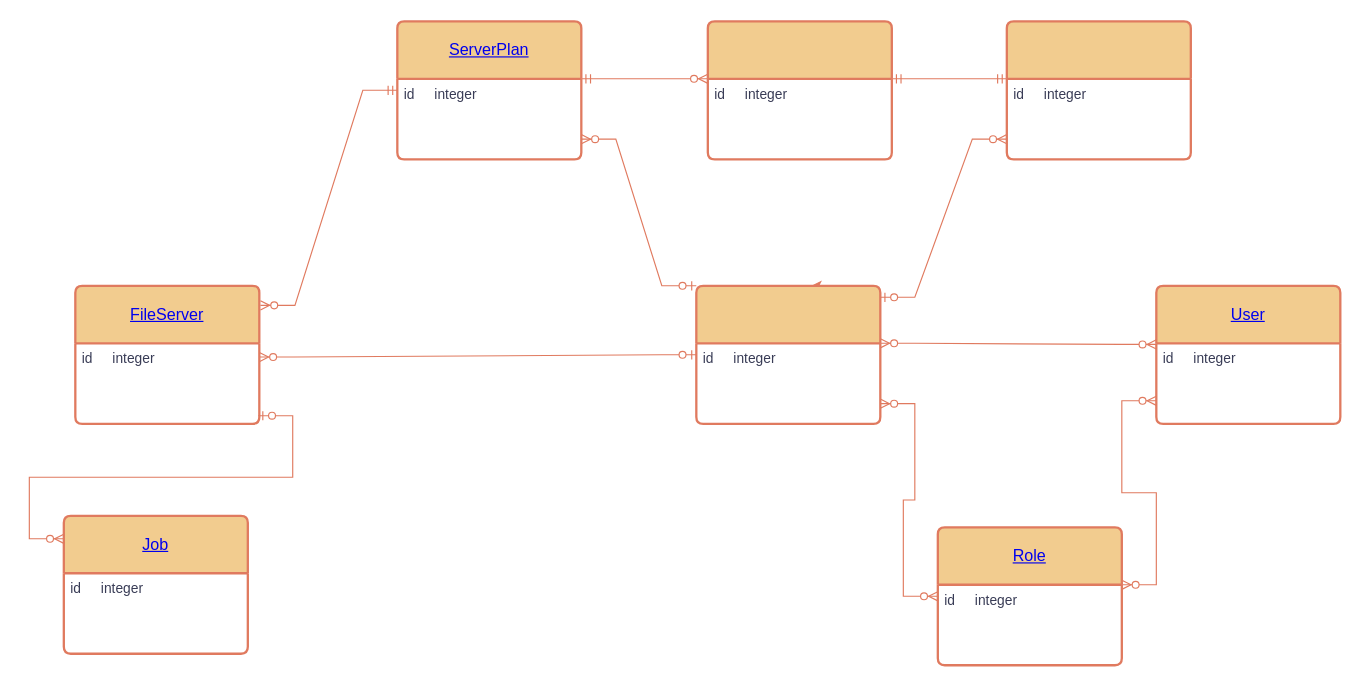
Image size: 1362x685. Some labels were removed from this diagram. Each missing label, with the box of its shape:
BackupDestination: (706, 20, 892, 160)
HSXStorage: (1005, 20, 1191, 160)
UserGroup: (695, 284, 881, 424)
